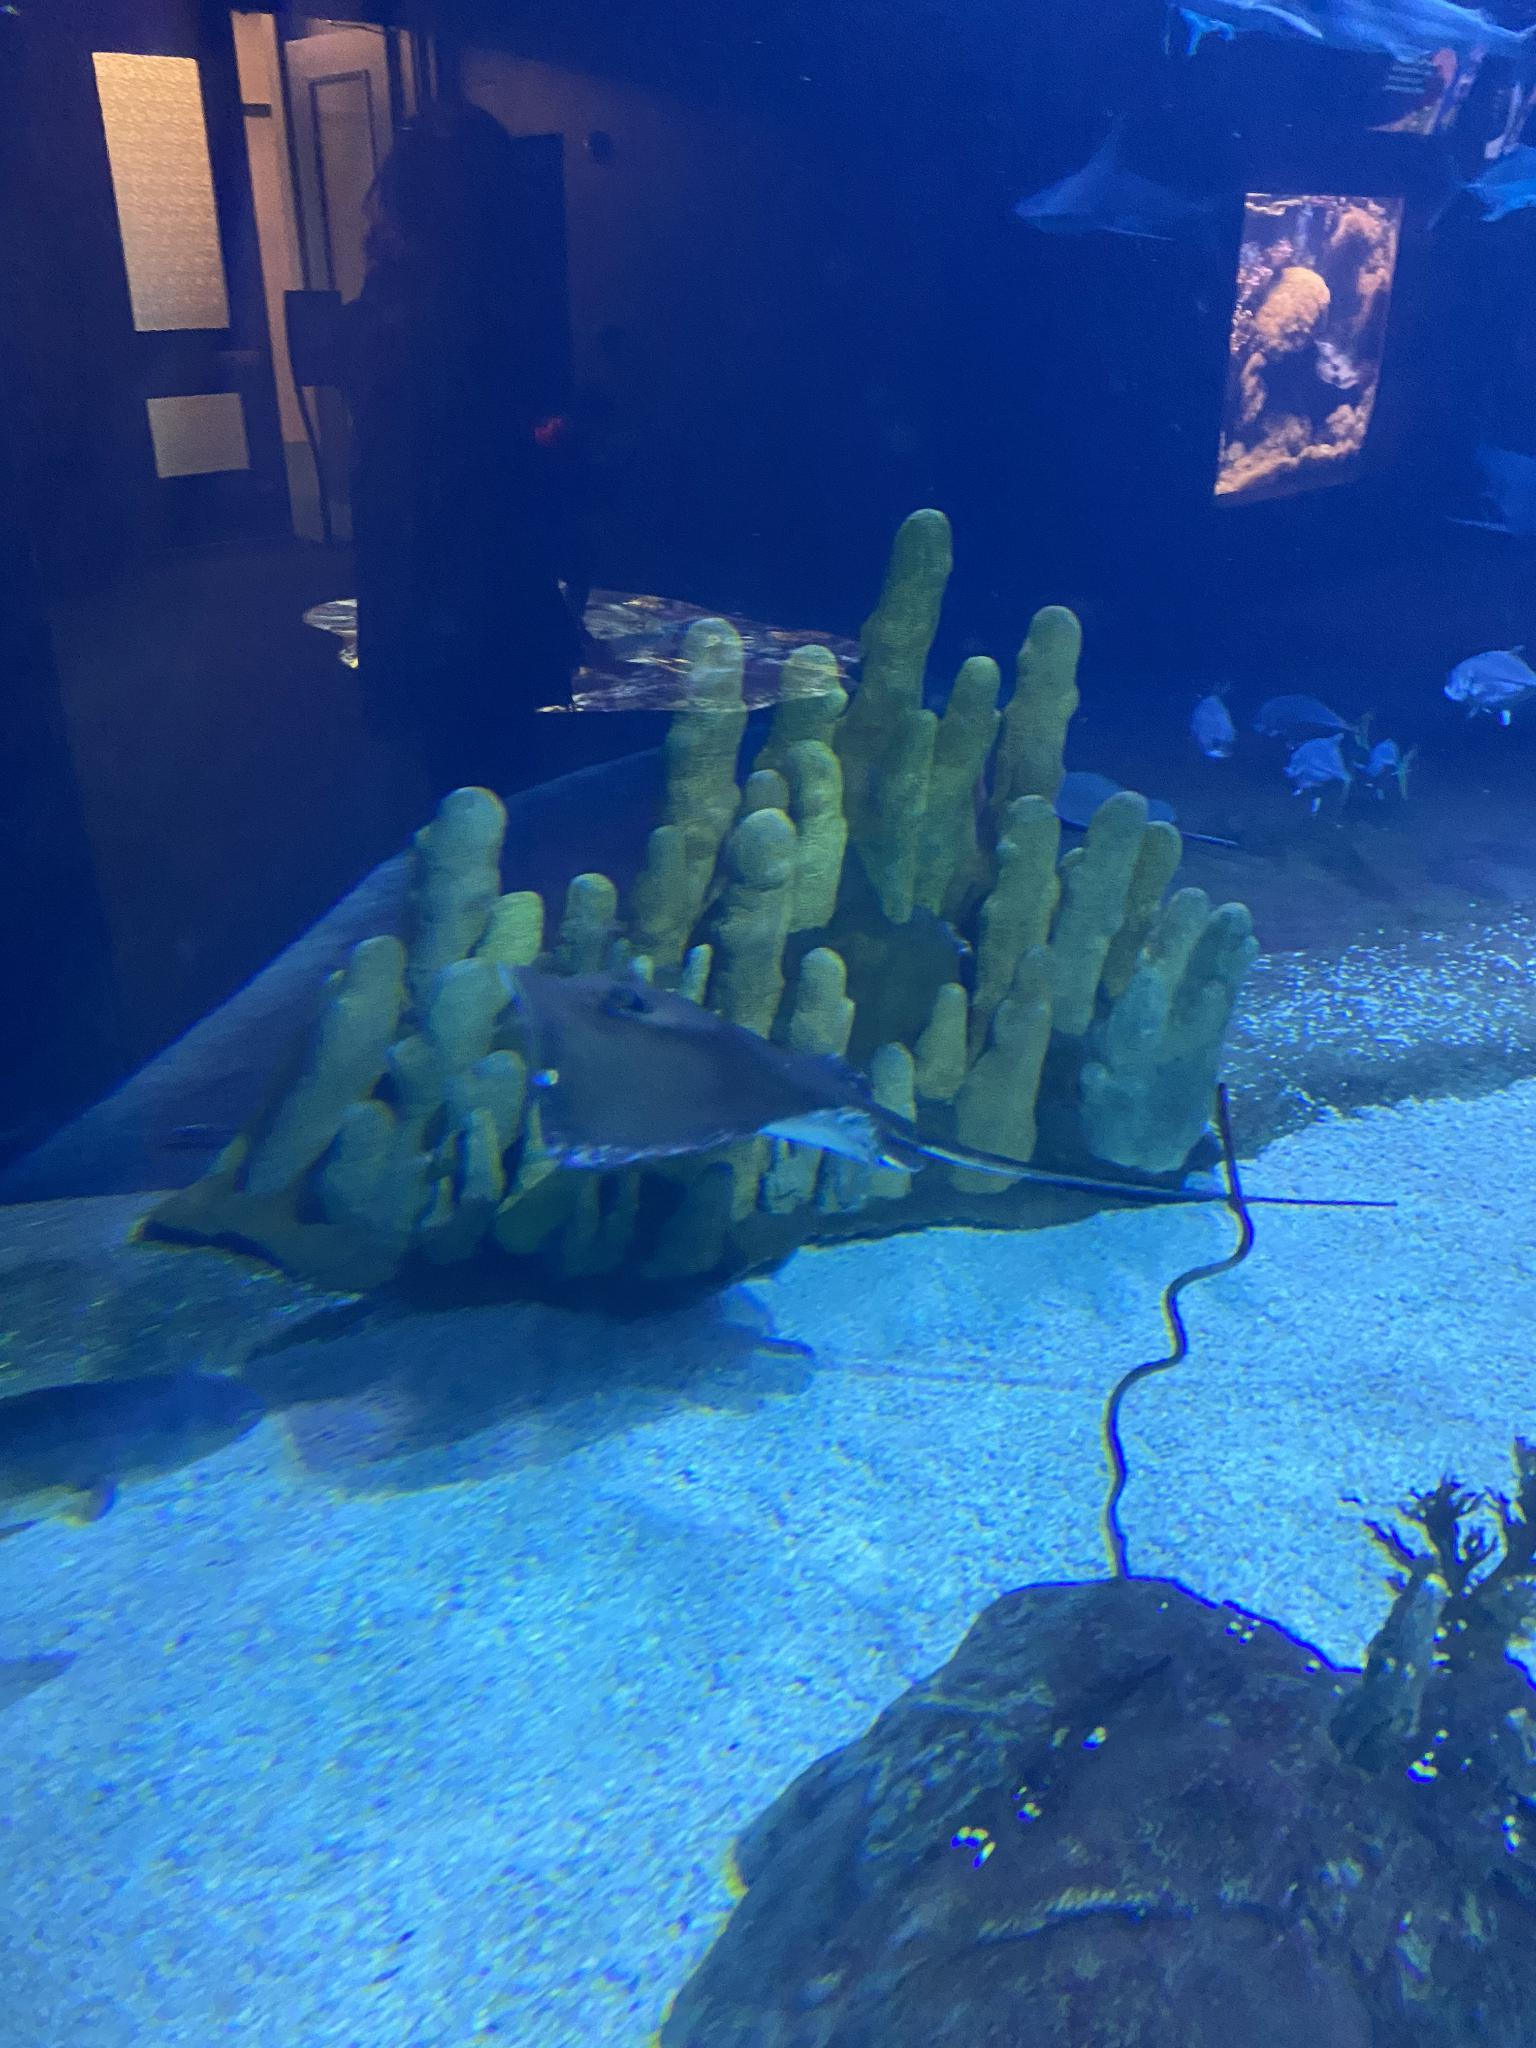fish: (1438, 144, 1536, 231), (1250, 689, 1373, 751), (1446, 645, 1534, 724), (1283, 734, 1354, 819), (1355, 739, 1418, 803), (1191, 681, 1236, 763)
shark: (1171, 0, 1534, 81), (1013, 114, 1221, 255)
stingray: (507, 961, 925, 1176)
